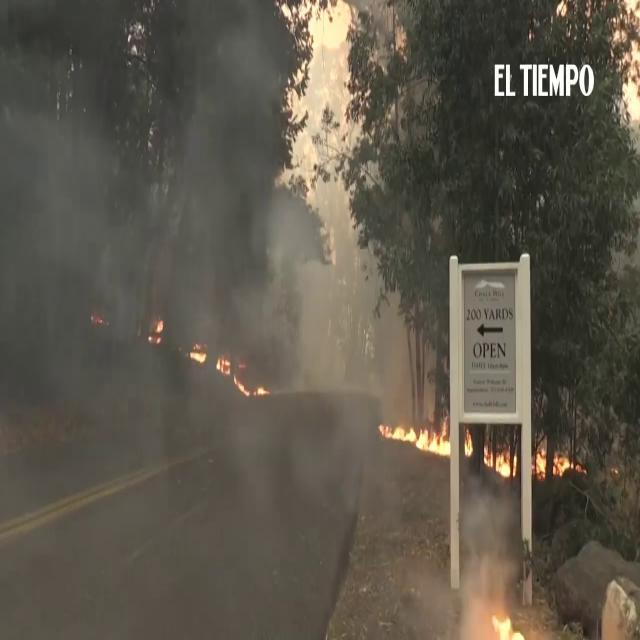Fire: (379, 424, 451, 456), (233, 374, 270, 398), (493, 616, 525, 640), (554, 452, 574, 477), (534, 448, 548, 479), (148, 318, 164, 344), (190, 343, 207, 362), (216, 356, 232, 376), (466, 426, 474, 464), (498, 453, 510, 478), (576, 464, 588, 474), (486, 452, 492, 469)
Smoke: (0, 4, 143, 422), (168, 1, 328, 340), (462, 478, 520, 611)
